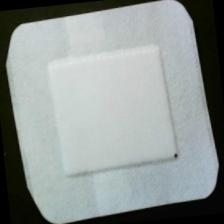Dressing: (1, 1, 224, 224)
F_Body: (163, 144, 188, 171)
